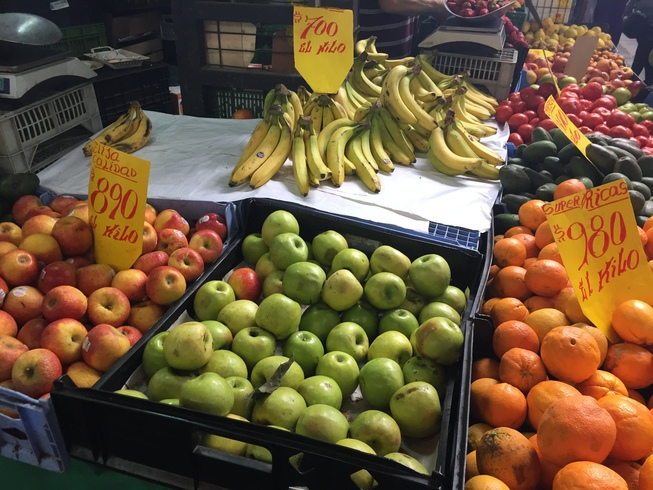precio: (537, 184, 653, 303), (86, 140, 148, 262), (293, 7, 351, 86), (543, 97, 592, 152)
